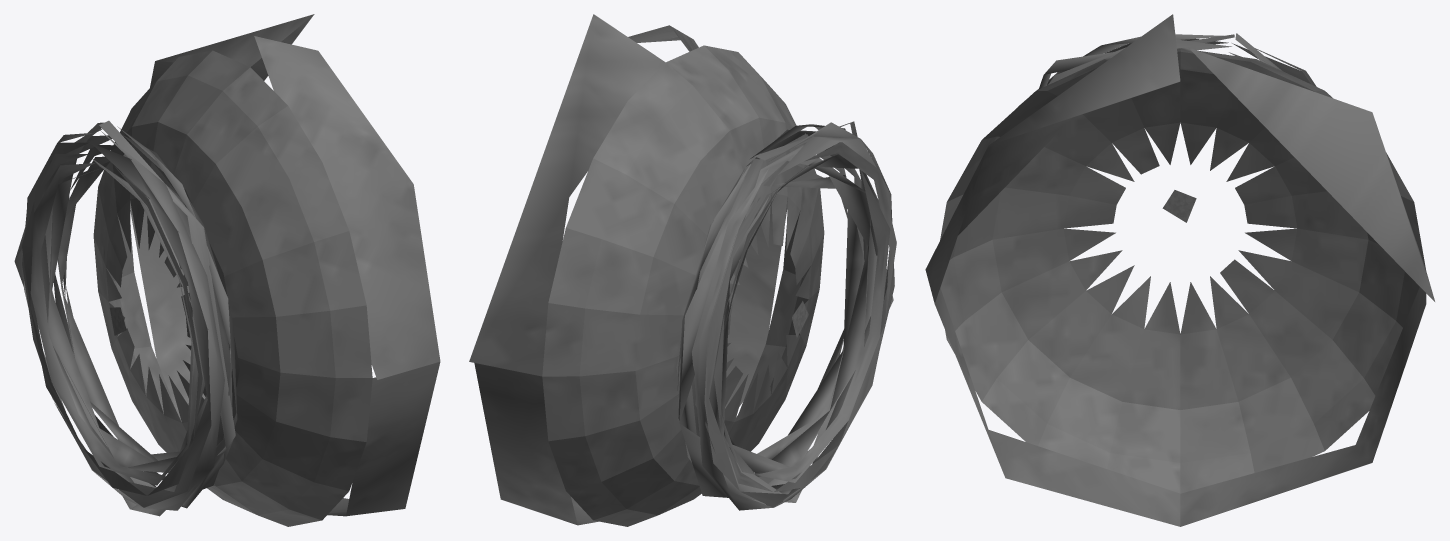
The model's file is valvola.glb.
The picture shows the model from 3 angles, left to right: view 1: azimuth 30°, elevation 25°; view 2: azimuth 150°, elevation 25°; view 3: azimuth 270°, elevation 25°; orthographic projection.
Parts seen in each view (by area): view 1: Object_2; view 2: Object_2; view 3: Object_2.
Part boxes in pixels (bbox=[...]): Object_2: bbox=[14, 14, 440, 526]; Object_2: bbox=[469, 14, 896, 526]; Object_2: bbox=[925, 14, 1434, 526].
Size of the model in its own units: 0.9153 by 2.01 by 1.94.
Materials: 1 (1 with a texture image).
